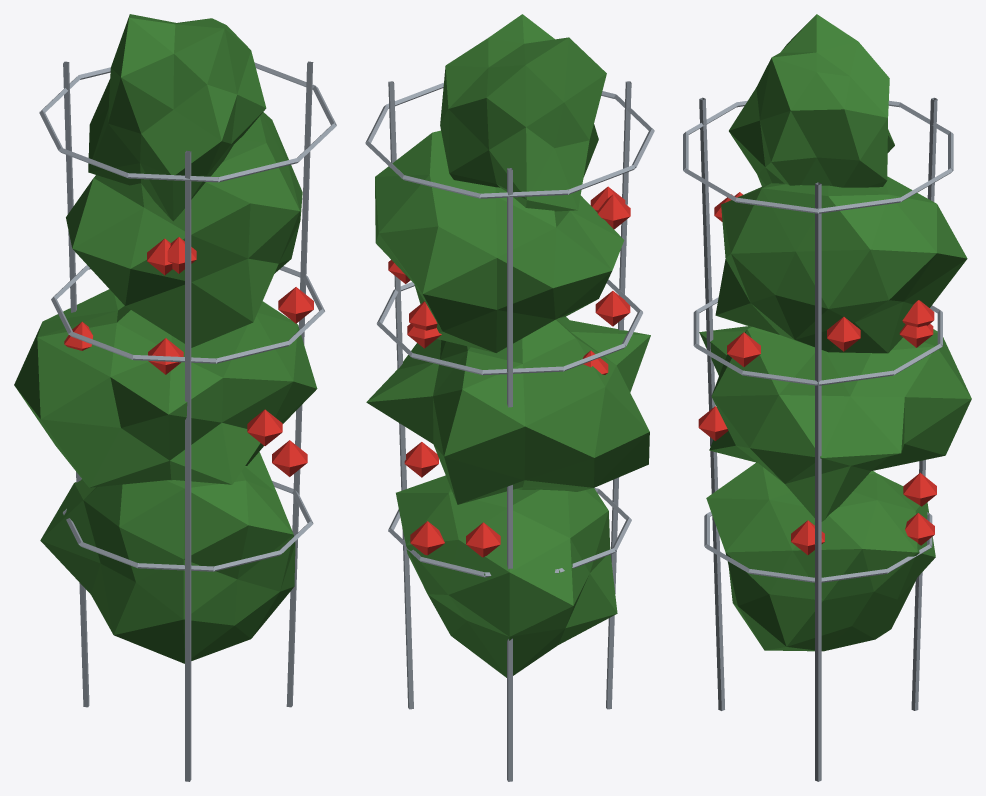
File: tomato.glb
The picture shows the model from 3 angles, left to right: view 1: azimuth 30°, elevation 25°; view 2: azimuth 150°, elevation 25°; view 3: azimuth 270°, elevation 25°; orthographic projection. The views are drawn at different scales.
Parts seen in each view (by area): view 1: tomato; view 2: tomato; view 3: tomato.
Part boxes in pixels (bbox=[...]): tomato: bbox=[14, 14, 336, 781]; tomato: bbox=[365, 14, 654, 781]; tomato: bbox=[683, 14, 971, 781].
Size of the model in its own units: 0.5413 by 1.37 by 0.5183.
